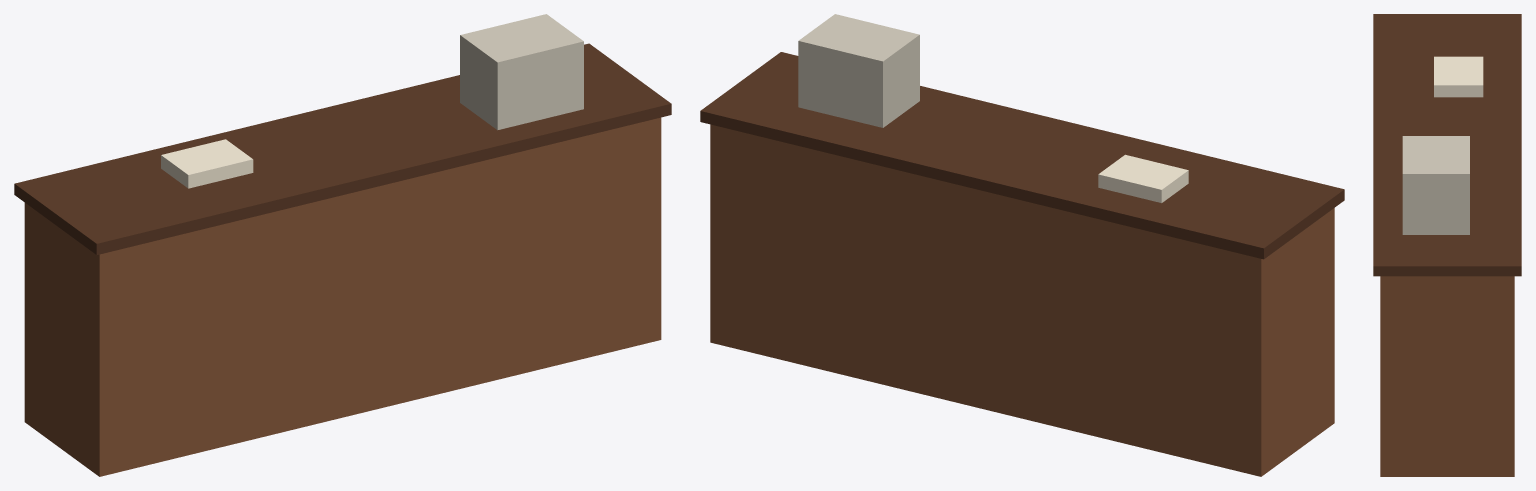
The model's file is desk.glb.
The picture shows the model from 3 angles, left to right: view 1: azimuth 30°, elevation 25°; view 2: azimuth 150°, elevation 25°; view 3: azimuth 270°, elevation 25°; orthographic projection. The views are drawn at different scales.
Parts seen in each view (by area): view 1: Box1, Box2, Box4, Box3; view 2: Box1, Box2, Box4, Box3; view 3: Box2, Box1, Box4, Box3.
Part boxes in pixels (x1,y1,x2,y2): Box1: [24, 117, 661, 476]; Box2: [14, 43, 671, 254]; Box4: [460, 14, 583, 130]; Box3: [161, 139, 253, 188]; Box1: [710, 124, 1334, 476]; Box2: [700, 52, 1344, 259]; Box4: [798, 14, 919, 127]; Box3: [1098, 154, 1188, 202]; Box2: [1373, 14, 1521, 276]; Box1: [1380, 276, 1514, 476]; Box4: [1402, 136, 1469, 234]; Box3: [1434, 56, 1483, 97].
Bounding box in the file's own units: 2.66 × 1.35 × 0.66.
